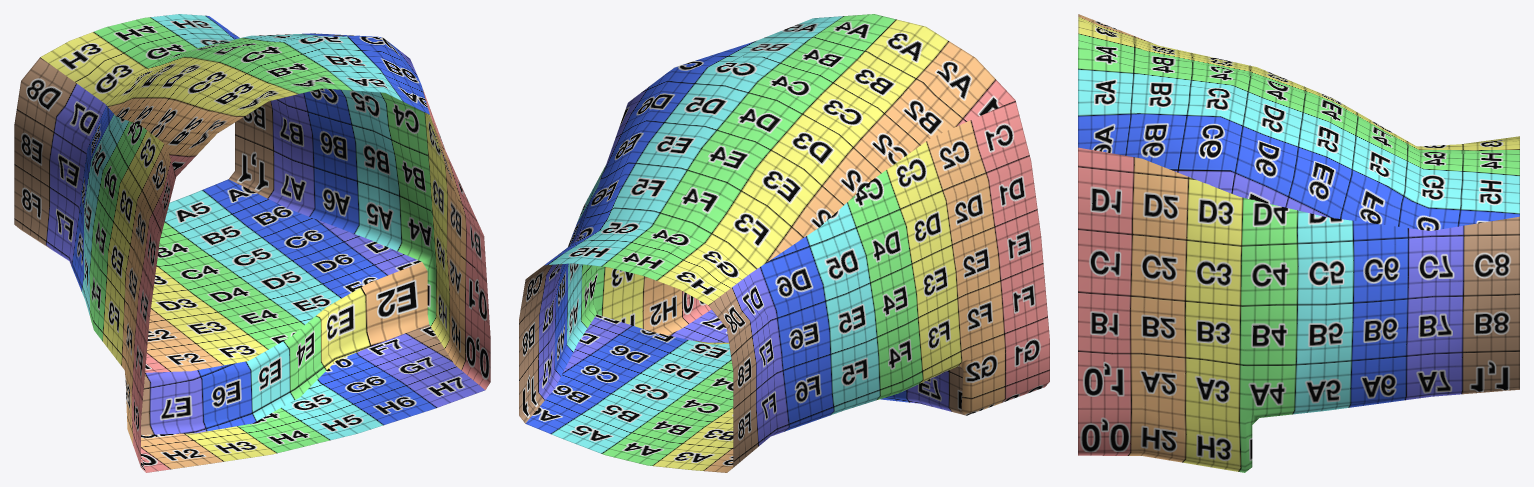
File: grotte_straightToBig.fbx
The picture shows the model from 3 angles, left to right: view 1: azimuth 30°, elevation 25°; view 2: azimuth 150°, elevation 25°; view 3: azimuth 270°, elevation 25°; orthographic projection. The views are drawn at different scales.
Visible parts, largest first — view 1: grotte_straightToBig; view 2: grotte_straightToBig; view 3: grotte_straightToBig.
Part boxes in pixels (bbox=[...]): grotte_straightToBig: bbox=[14, 14, 490, 472]; grotte_straightToBig: bbox=[519, 14, 1049, 472]; grotte_straightToBig: bbox=[1078, 14, 1519, 472].
Bounding box in the file's own units: 778 × 698 × 800.
Materials: 1 (1 with a texture image).
